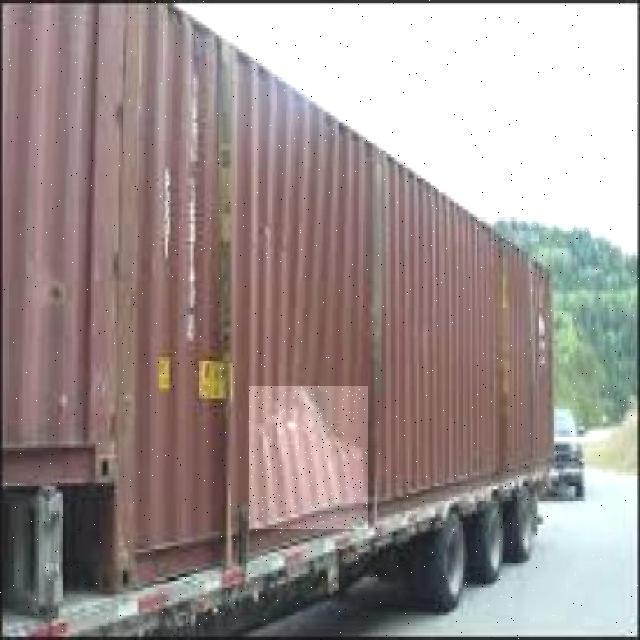Dent: (249, 386, 368, 529)
